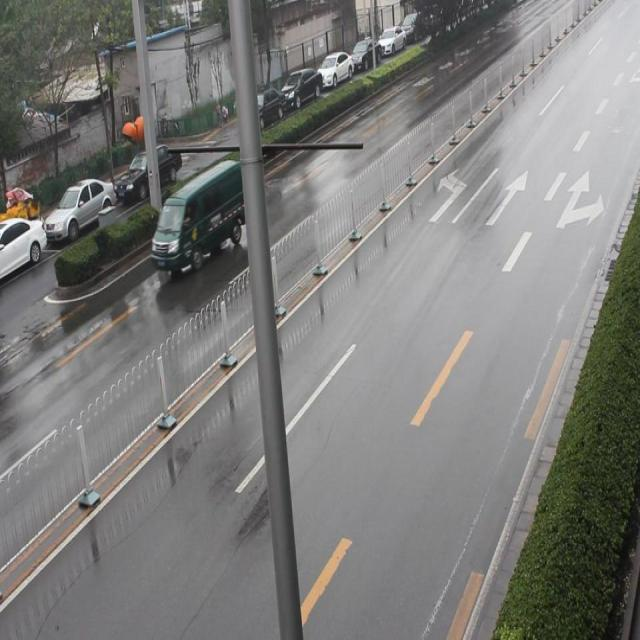truck: (151, 148, 250, 273)
